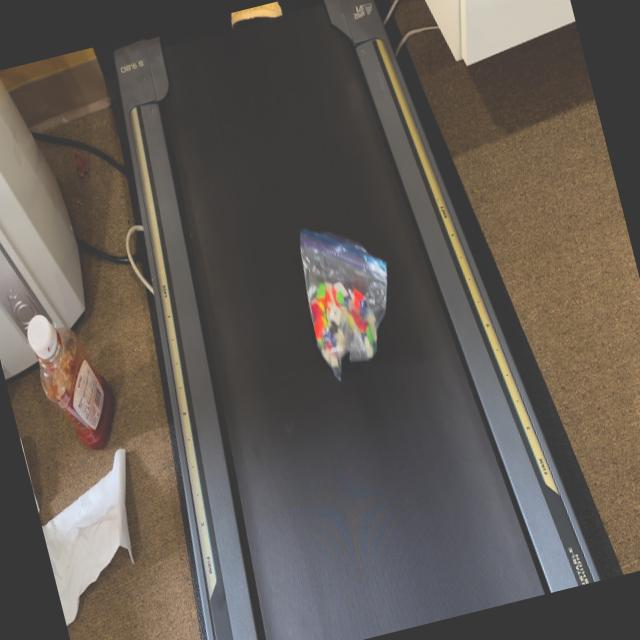Trash: (289, 211, 412, 386)
